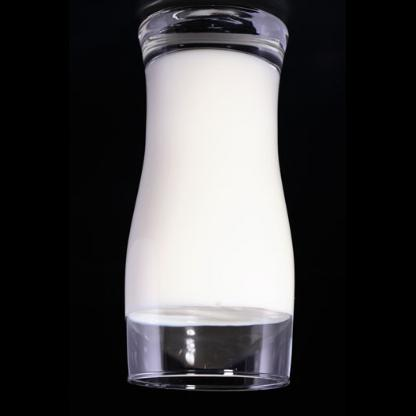milk: (124, 44, 298, 328)
